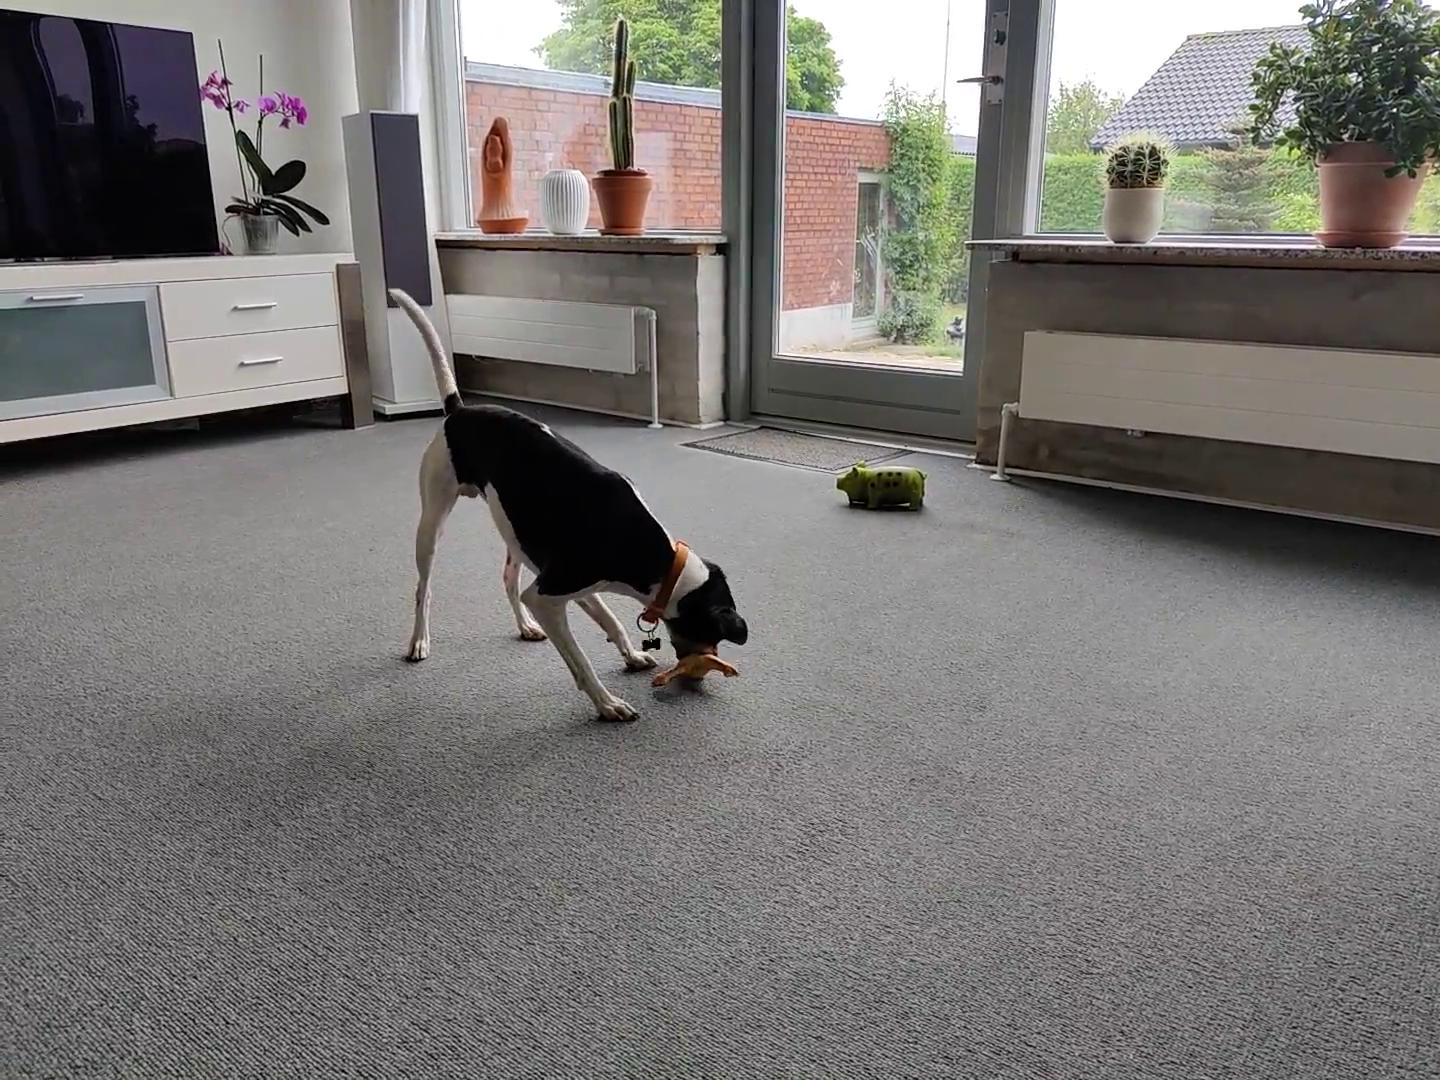Dog: (361, 275, 762, 726)
